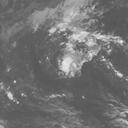cyclone: (57, 26, 95, 78)
